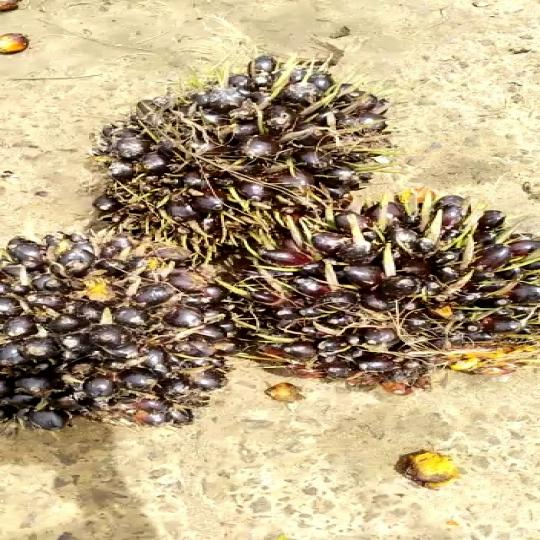mentah: (59, 53, 428, 250), (190, 192, 540, 383), (1, 235, 232, 444)
